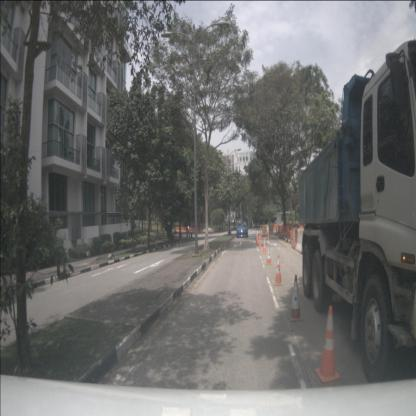barrier: (296, 230, 304, 254), (292, 230, 298, 249)
cone: (315, 306, 340, 384), (289, 274, 303, 320), (274, 254, 284, 286), (266, 243, 272, 266), (257, 234, 262, 248), (263, 237, 267, 254), (255, 231, 259, 246)
